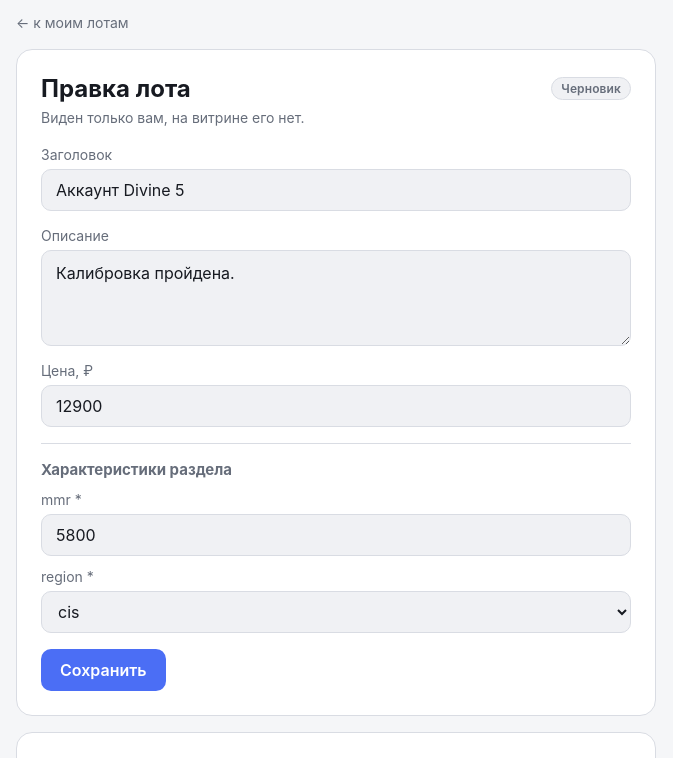
Test: правка подставляет поля черновика и шлёт только их
Expected: the field labelled "Заголовок" holds "Аккаунт Divine 5", [41,169,631,211]
Expected: the number field labelled "mmr *" holds "5800", [41,514,631,556]
Replace the text in the field labelled "Цена, ₽" with "9900" at (336,406), box [41,385,631,427]
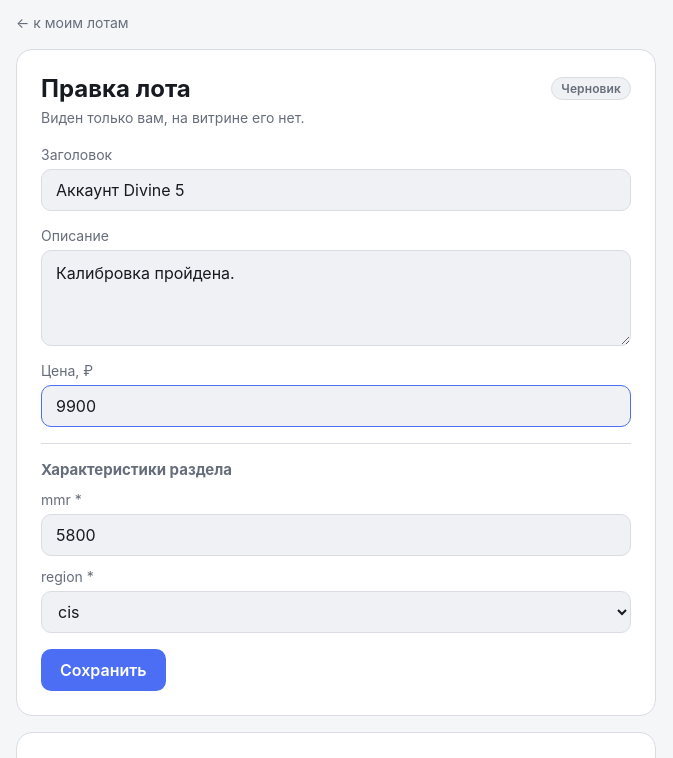
Click the button "Сохранить" at (103,670), box [41,649,166,691]
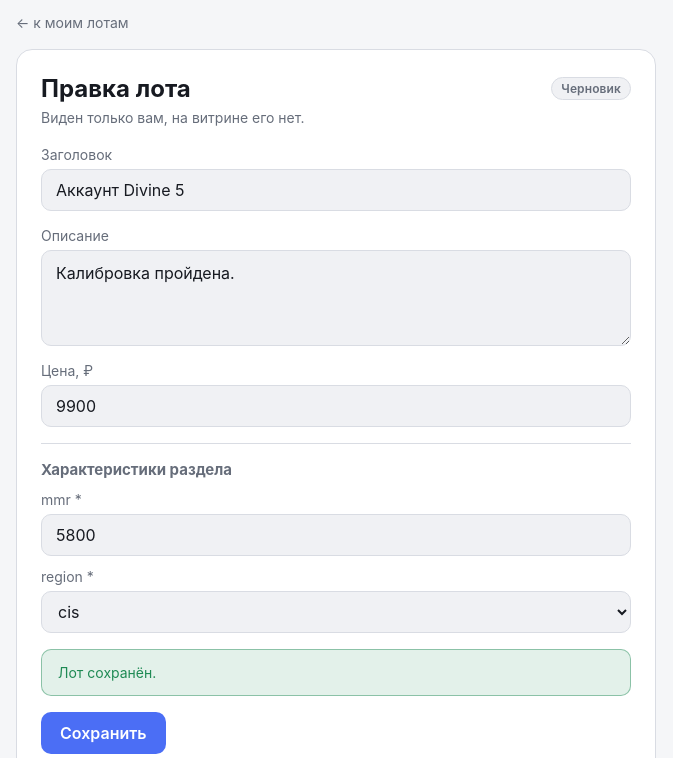
Result: the text "Лот сохранён." is shown at [41,649,631,696]
